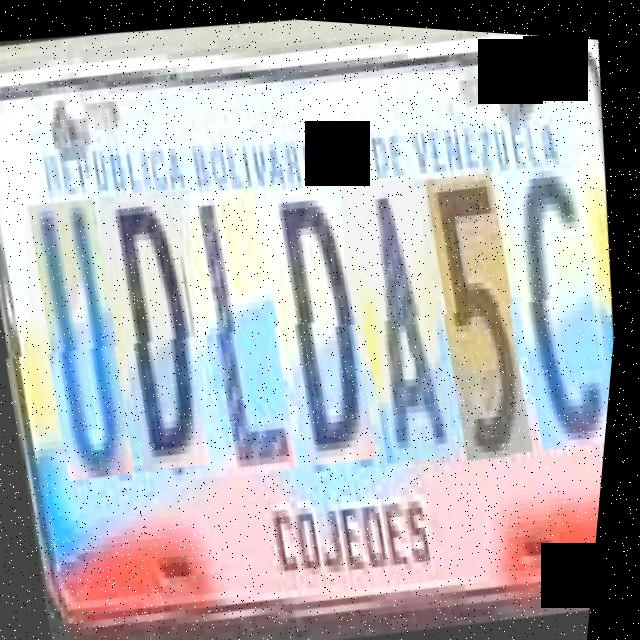5: (404, 164, 554, 466)
A: (324, 166, 478, 468)
C: (478, 153, 631, 457)
D: (246, 176, 397, 471), (84, 183, 232, 477)
L: (166, 178, 319, 480)
U: (9, 192, 157, 486)
